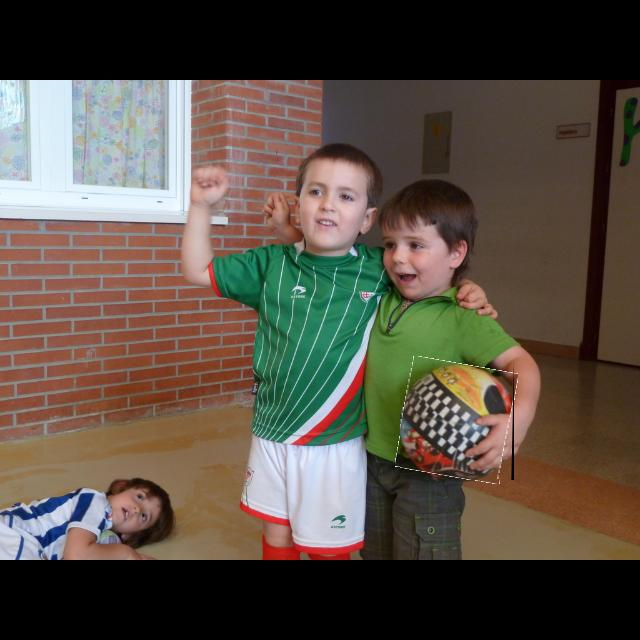Football: (400, 360, 514, 480)
